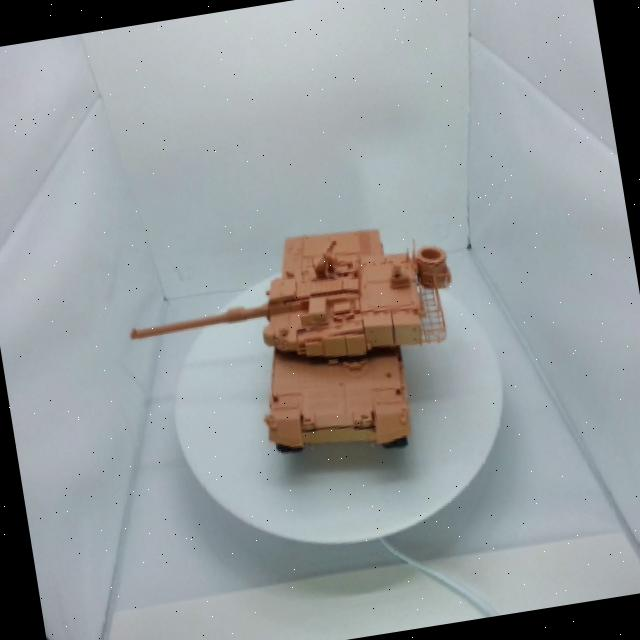korea tank: (94, 168, 514, 519)
